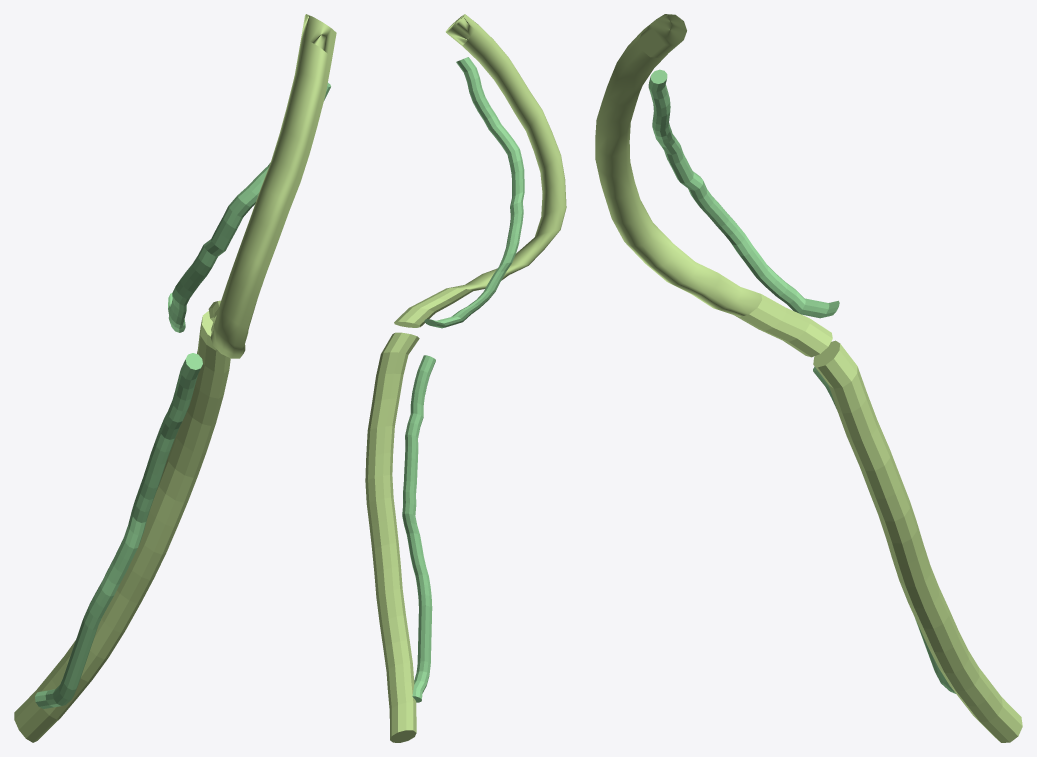
Rendered from VinesCB.fbx.
The picture shows the model from 3 angles, left to right: view 1: azimuth 30°, elevation 25°; view 2: azimuth 150°, elevation 25°; view 3: azimuth 270°, elevation 25°; orthographic projection. The views are drawn at different scales.
Visible parts, largest first — view 1: group_1489008395, group_1611765840, group_1084108858, group_537749619; view 2: group_1489008395, group_1611765840, group_1084108858, group_537749619; view 3: group_1611765840, group_1489008395, group_537749619.
Part boxes in pixels (x1=…): group_1489008395: x1=14, y1=311, x2=230, y2=742; group_1611765840: x1=208, y1=14, x2=336, y2=358; group_1084108858: x1=35, y1=353, x2=202, y2=708; group_537749619: x1=168, y1=83, x2=330, y2=332; group_1489008395: x1=365, y1=332, x2=419, y2=742; group_1611765840: x1=394, y1=14, x2=566, y2=327; group_1084108858: x1=402, y1=355, x2=435, y2=702; group_537749619: x1=424, y1=57, x2=524, y2=328; group_1611765840: x1=595, y1=14, x2=832, y2=357; group_1489008395: x1=813, y1=340, x2=1022, y2=742; group_537749619: x1=648, y1=69, x2=839, y2=318.
Bounding box in the file's own units: 0.0836 × 0.4893 × 0.2458.
